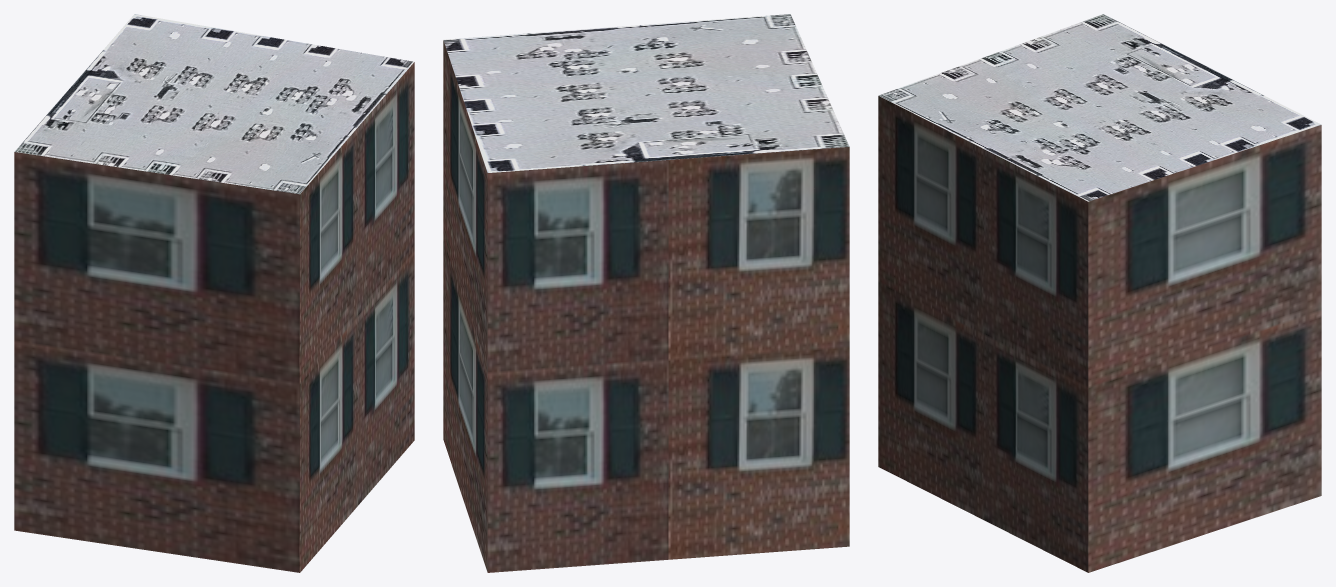
File: ResTex__4729.fbx
The picture shows the model from 3 angles, left to right: view 1: azimuth 30°, elevation 25°; view 2: azimuth 150°, elevation 25°; view 3: azimuth 270°, elevation 25°; orthographic projection. The views are drawn at different scales.
Parts seen in each view (by area): view 1: CityEngineMaterial_14_m, CityEngineMaterial_m; view 2: CityEngineMaterial_14_m, CityEngineMaterial_m; view 3: CityEngineMaterial_14_m, CityEngineMaterial_m.
Boxes of the visible parts, x1,y1,x2,y2 form: CityEngineMaterial_14_m: (14, 62, 414, 572); CityEngineMaterial_m: (14, 14, 414, 194); CityEngineMaterial_14_m: (443, 40, 849, 572); CityEngineMaterial_m: (443, 14, 849, 172); CityEngineMaterial_14_m: (878, 96, 1321, 572); CityEngineMaterial_m: (879, 14, 1321, 201).
Bounding box in the file's own units: 6.51 × 6 × 6.5.
Materials: 2 (2 with a texture image).
